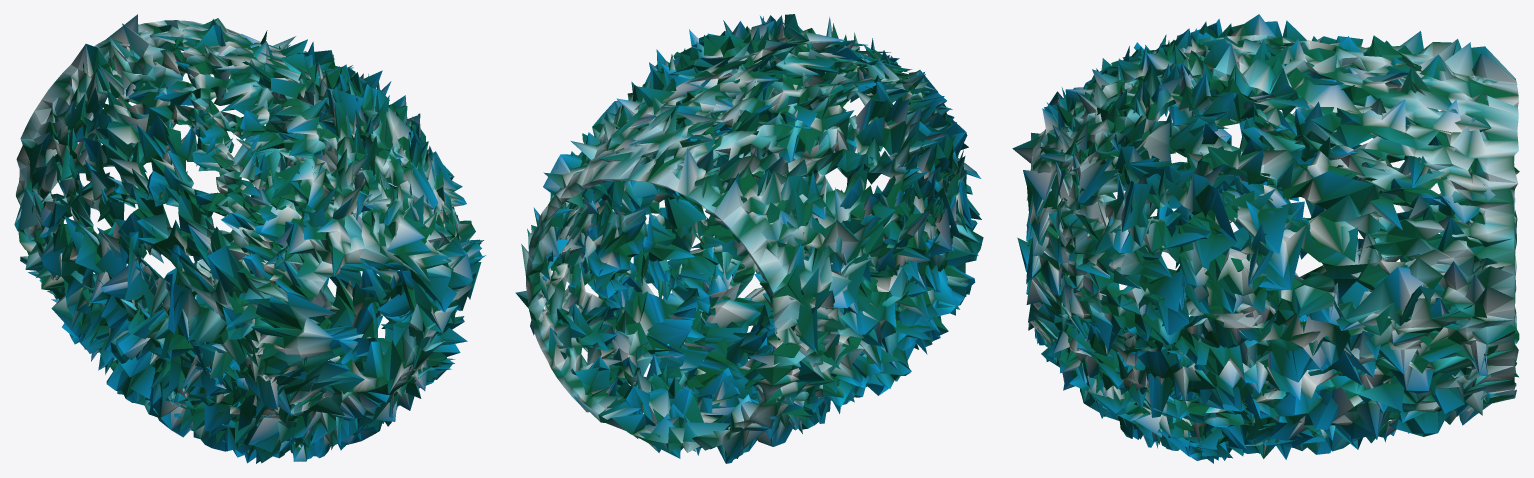
File: lamp_shade_14_final300.obj
The picture shows the model from 3 angles, left to right: view 1: azimuth 30°, elevation 25°; view 2: azimuth 150°, elevation 25°; view 3: azimuth 270°, elevation 25°; orthographic projection. The views are drawn at different scales.
Bounding box in the file's own units: 1.36 × 1.36 × 1.56.
